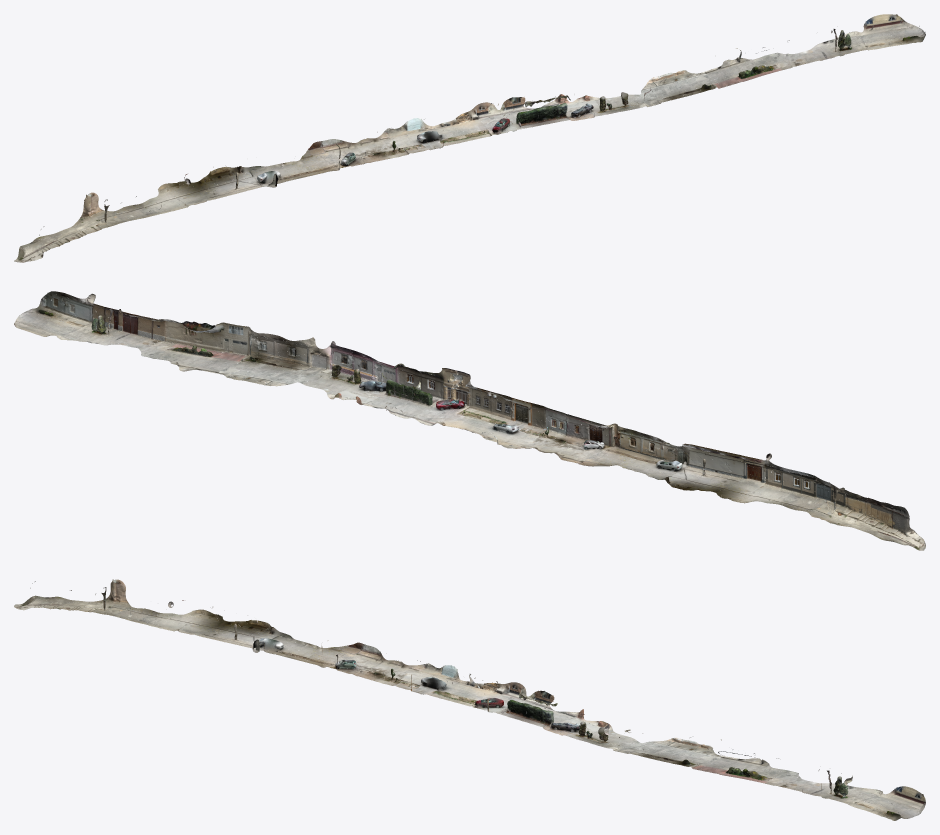
File: angren-1.glb
3 views of the same model, one above another, from view 1: azimuth 30°, elevation 25°; view 2: azimuth 150°, elevation 25°; view 3: azimuth 330°, elevation 25° (orthographic).
Size of the model in its own units: 179 by 10.24 by 15.2.
Materials: 12 (12 with a texture image).
